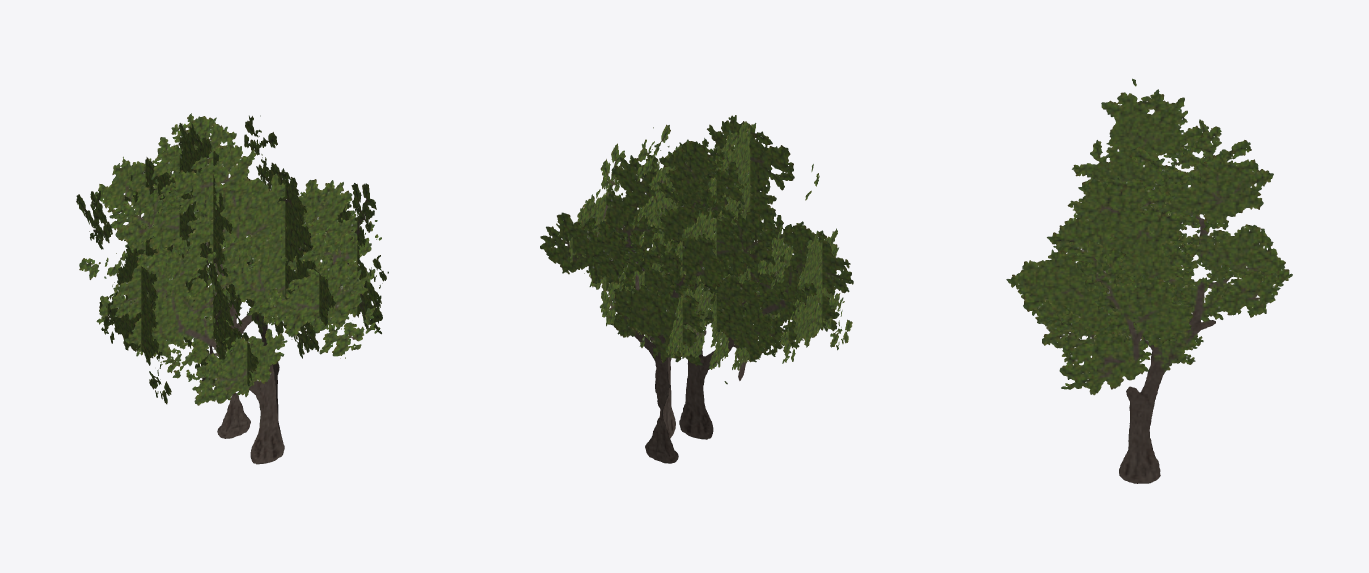
Rendered from urban_tree.glb.
3 views of the same model, side by side, from view 1: azimuth 30°, elevation 25°; view 2: azimuth 150°, elevation 25°; view 3: azimuth 270°, elevation 25° (orthographic). The views are drawn at different scales.
Parts seen in each view (by area): view 1: urban_tree; view 2: urban_tree; view 3: urban_tree.
Boxes of the visible parts, left/top/right/bottom form: urban_tree: left=76, top=113, right=388, bottom=464; urban_tree: left=540, top=115, right=853, bottom=463; urban_tree: left=1006, top=78, right=1292, bottom=483.
Size of the model in its own units: 16.7 by 16.7 by 16.7.
1 material, 1 textured.
